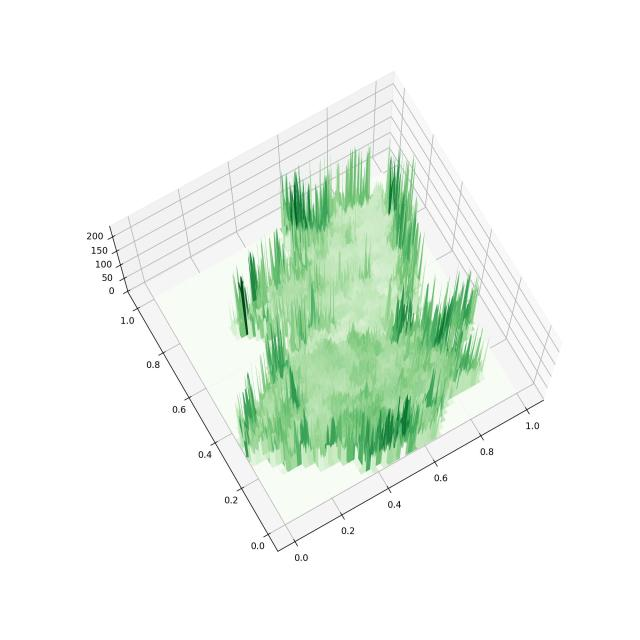fir: (56, 50, 594, 584)
